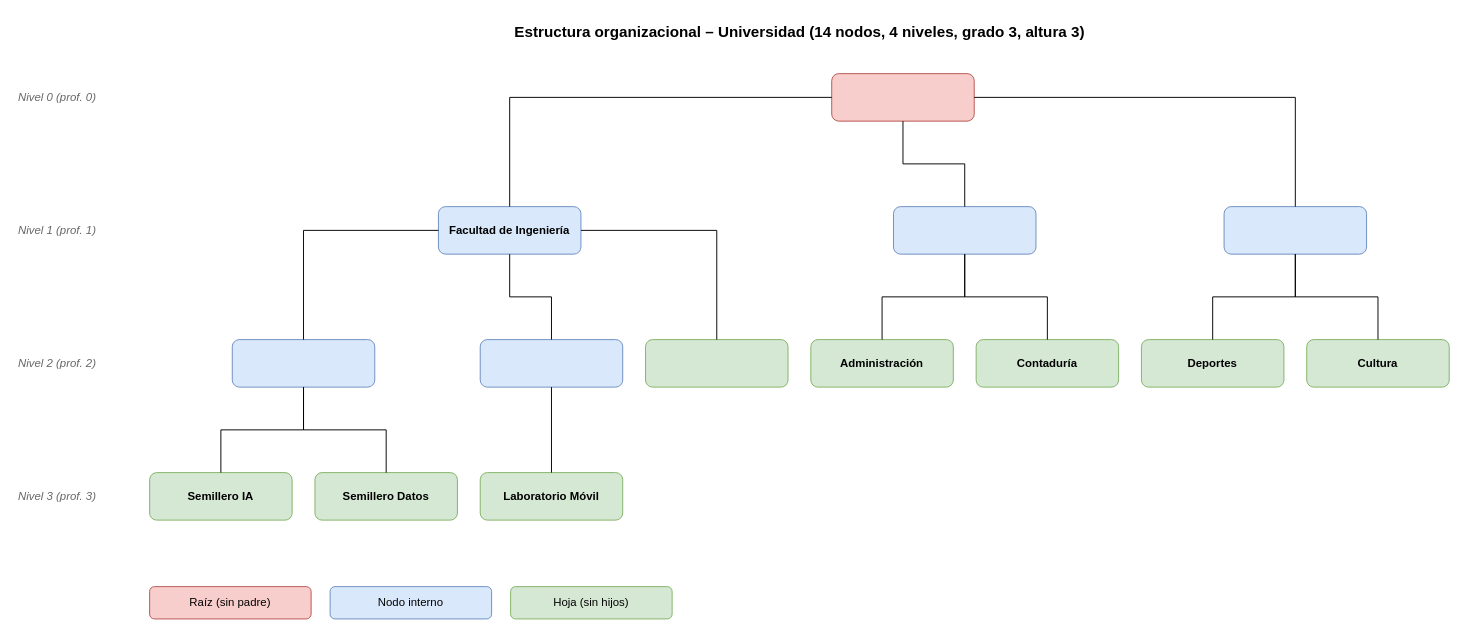
Image size: 1466x636. Some labels were removed from this diagram. Here are the shapes that lost their labels. From the top down, the centre of each, then its label:
At [902,97]: "Universidad".
At [964,230]: "Ciencias Administrativas".
At [1295,230]: "Bienestar Universitario".
At [303,363]: "Ingeniería de Sistemas".
At [551,363]: "Ingeniería de Software".
At [716,363]: "Ingeniería Industrial".
